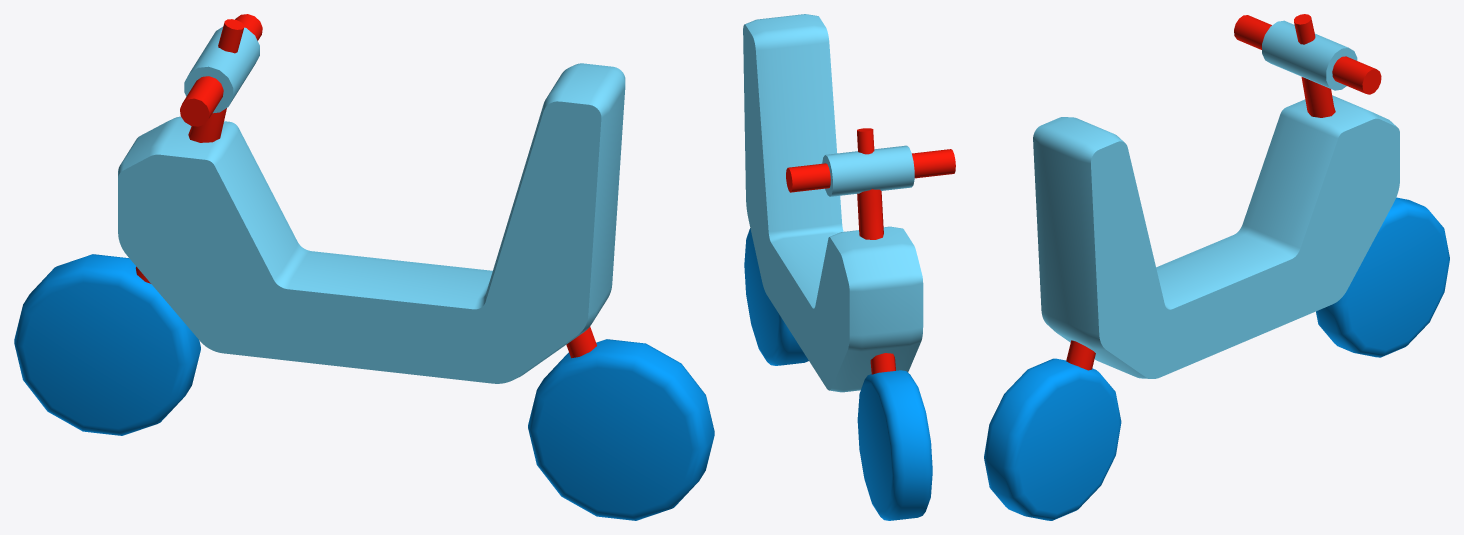
Rendered from 005-Spatula_02.FBX.
3 views of the same model, side by side, from view 1: azimuth 30°, elevation 25°; view 2: azimuth 150°, elevation 25°; view 3: azimuth 270°, elevation 25° (orthographic). The views are drawn at different scales.
Visible parts, largest first — view 1: 005-Spatula_02; view 2: 005-Spatula_02; view 3: 005-Spatula_02.
Part boxes in pixels (bbox=[...]): 005-Spatula_02: bbox=[14, 14, 714, 520]; 005-Spatula_02: bbox=[743, 14, 955, 520]; 005-Spatula_02: bbox=[984, 14, 1449, 520].
Size of the model in its own units: 60.1 by 55.33 by 59.88.
